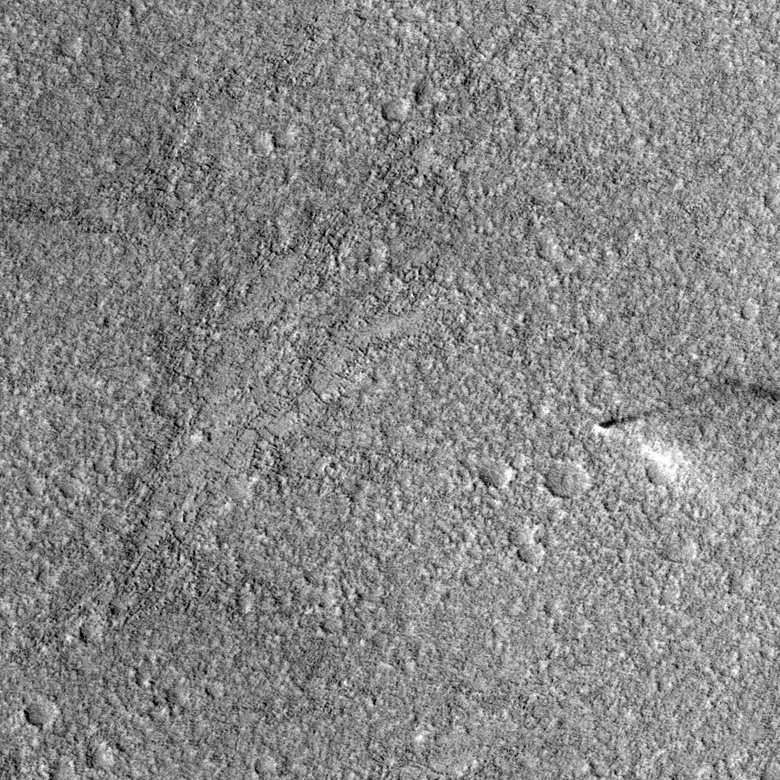dust_devil: (588, 374, 780, 492)
